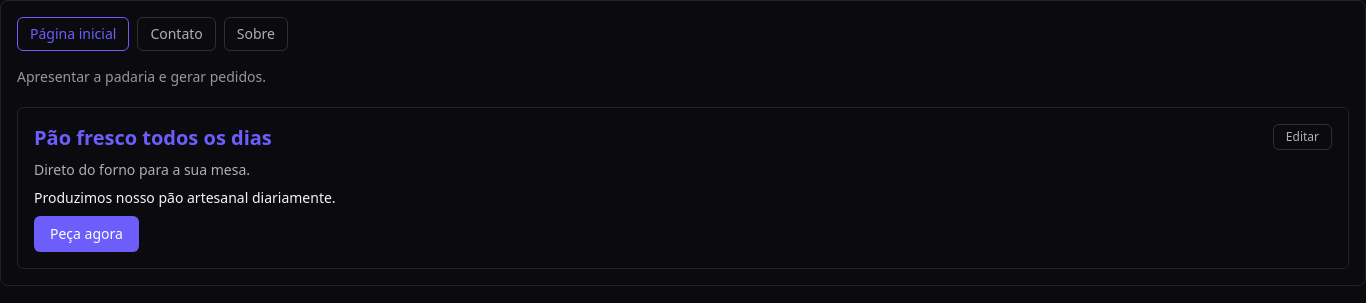
SitePreviewViewer › shows an empty state for a page with no sections yet
Click the tab "Sobre". click: (256, 34)
box: [224, 17, 288, 51]
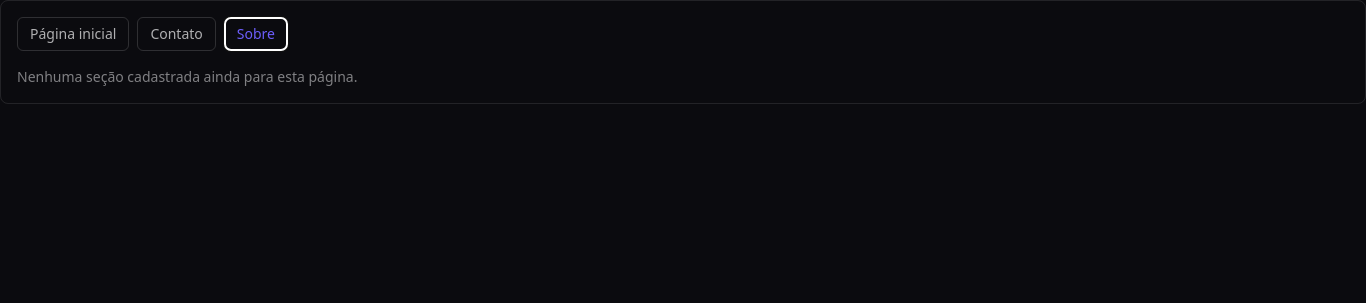
Check: the text "Nenhuma seção cadastrada ainda para esta página." is shown, box [17, 67, 357, 86]
